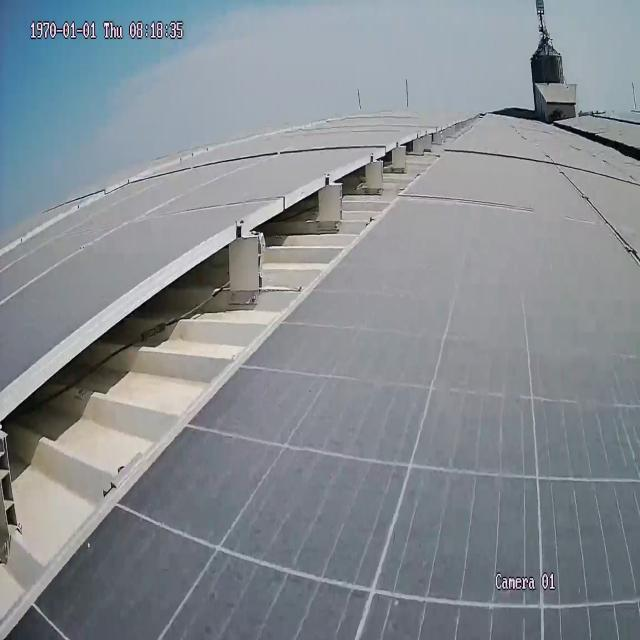outher panel: (2, 120, 477, 634)
